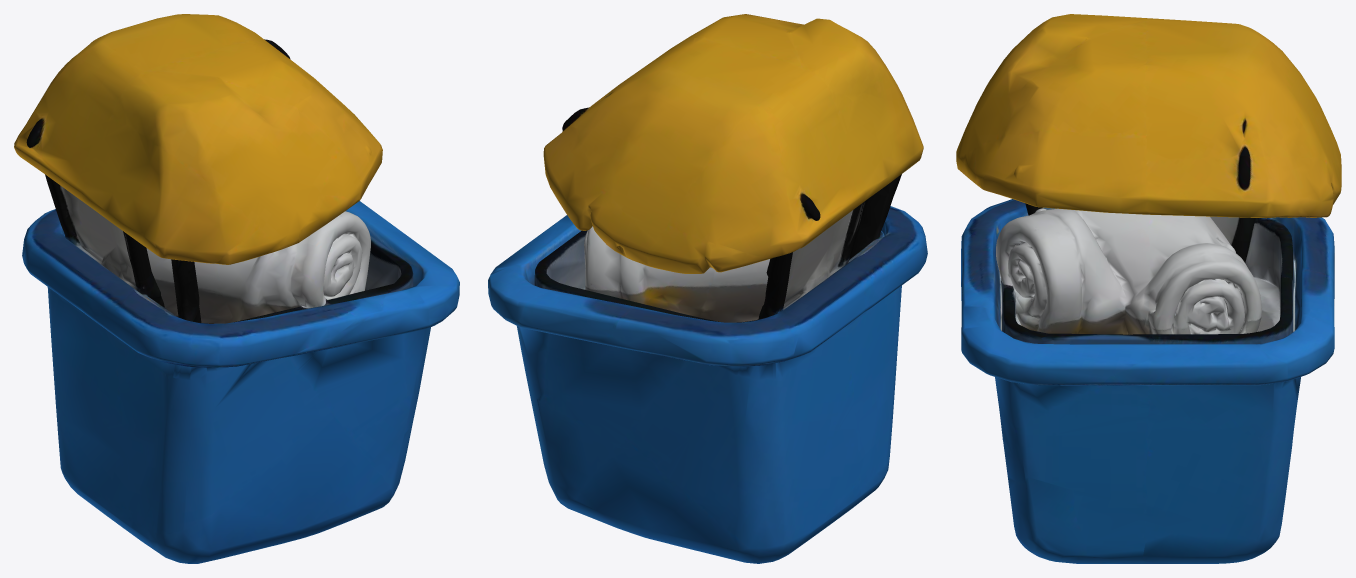
The model's file is towel-bin.glb.
The picture shows the model from 3 angles, left to right: view 1: azimuth 30°, elevation 25°; view 2: azimuth 150°, elevation 25°; view 3: azimuth 270°, elevation 25°; orthographic projection.
Visible parts, largest first — view 1: tripo_node_4bcfce5d-cd02-462b-8c35-cda7e25973d7; view 2: tripo_node_4bcfce5d-cd02-462b-8c35-cda7e25973d7; view 3: tripo_node_4bcfce5d-cd02-462b-8c35-cda7e25973d7.
Boxes of the visible parts, box(x1,y1,x2,y2) form: tripo_node_4bcfce5d-cd02-462b-8c35-cda7e25973d7: box(14, 14, 459, 563); tripo_node_4bcfce5d-cd02-462b-8c35-cda7e25973d7: box(488, 14, 927, 563); tripo_node_4bcfce5d-cd02-462b-8c35-cda7e25973d7: box(956, 14, 1341, 563).
Bounding box in the file's own units: 0.7211 × 0.9997 × 0.746.
1 material, 1 textured.
